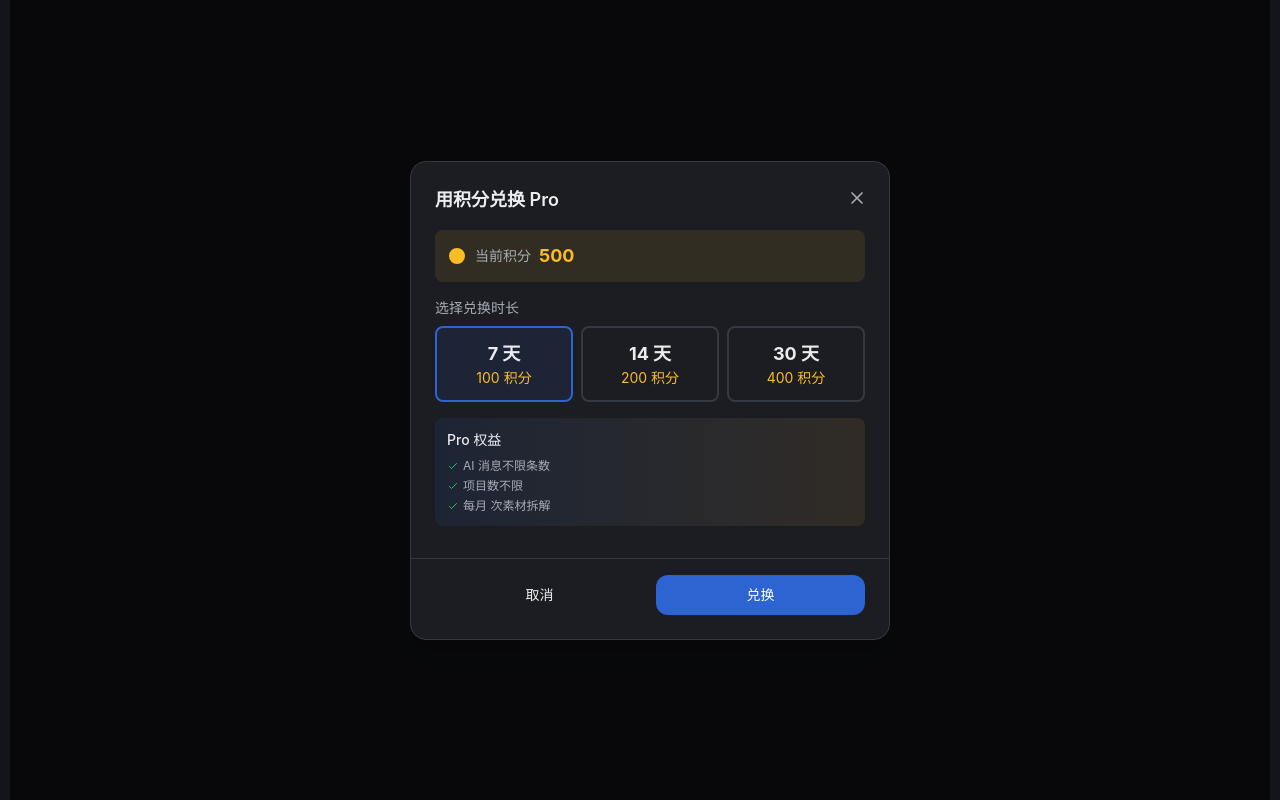
Scenario: RedeemProModal › Error Handling › clears error when retrying
Click the button "兑换" at (760, 594), box [656,574,865,614]
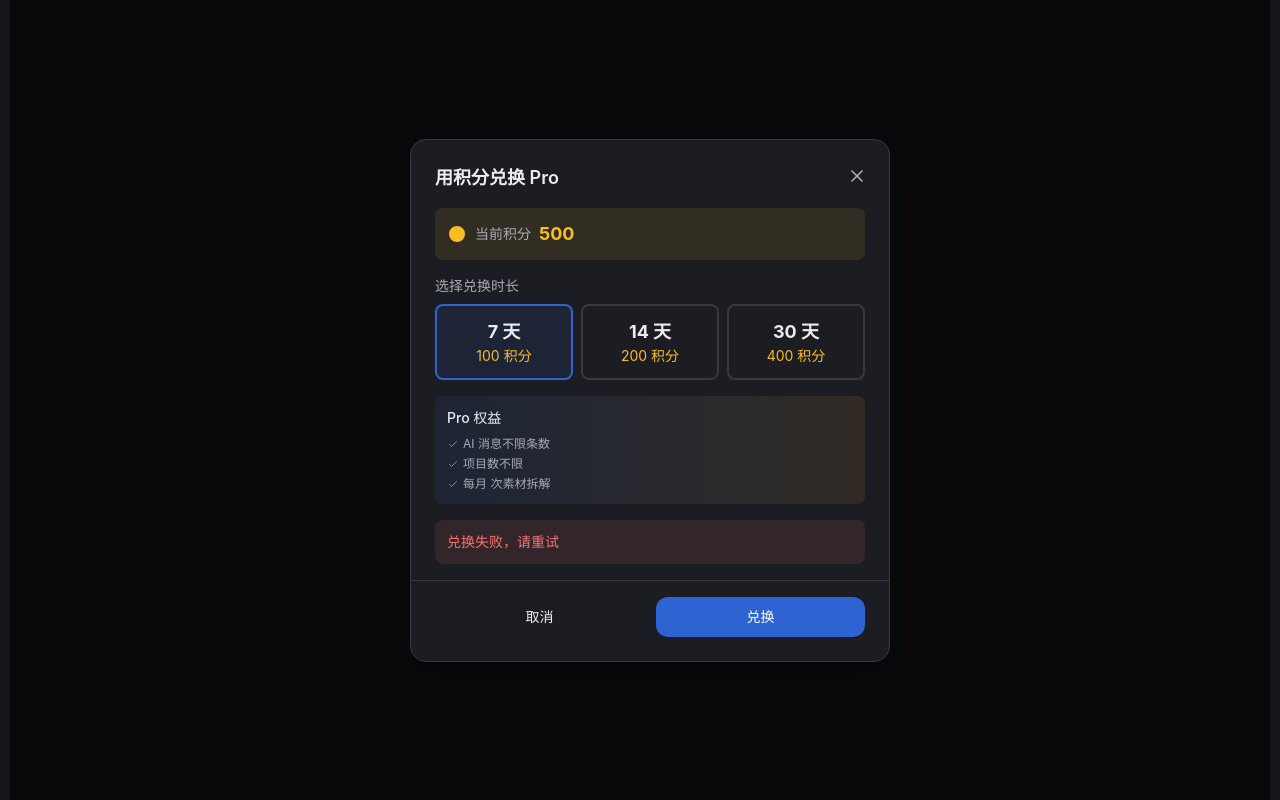
Expected: the text "兑换失败，请重试" is shown, [435,520,865,564]
Click again for success
Click the button "兑换" at (760, 616), box [656,596,865,636]
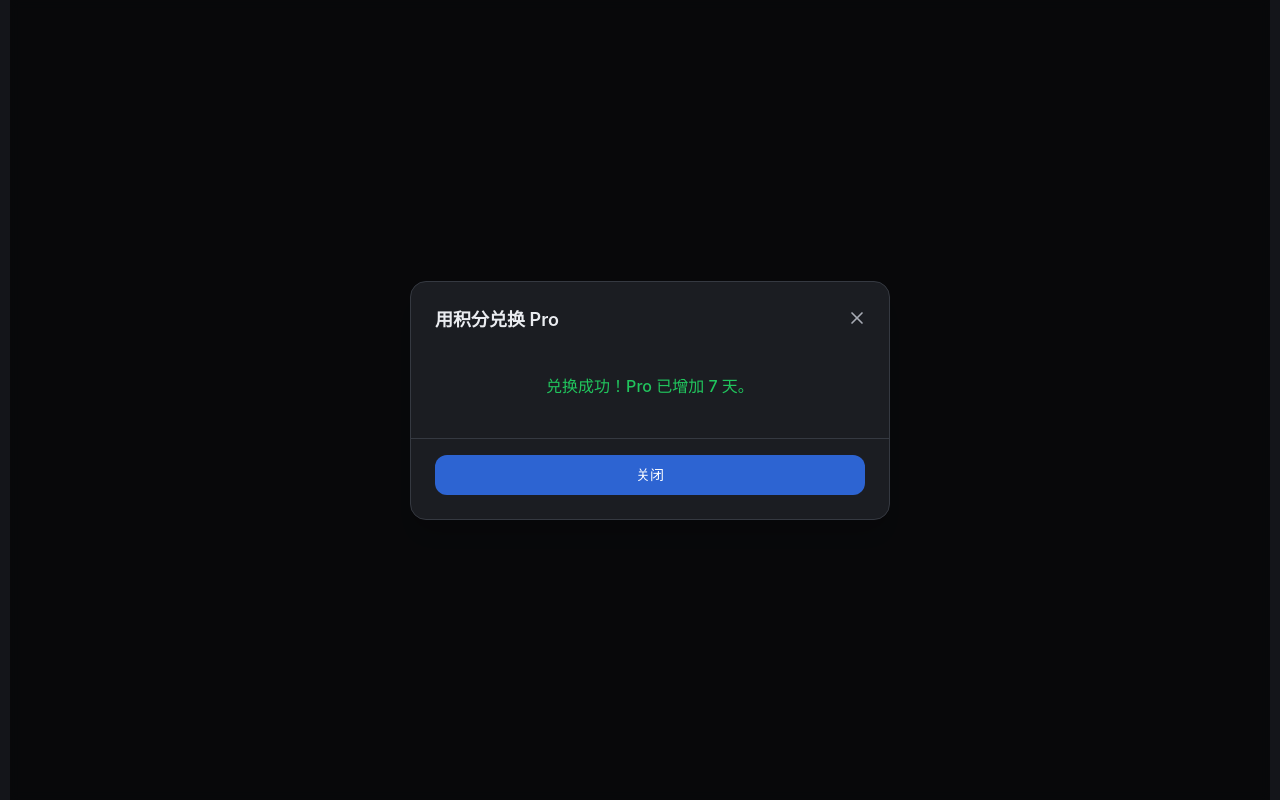
Expected: the text "兑换成功！Pro 已增加 7 天。" is shown, [546,376,754,396]
Expected: the text "兑换失败，请重试" is gone
